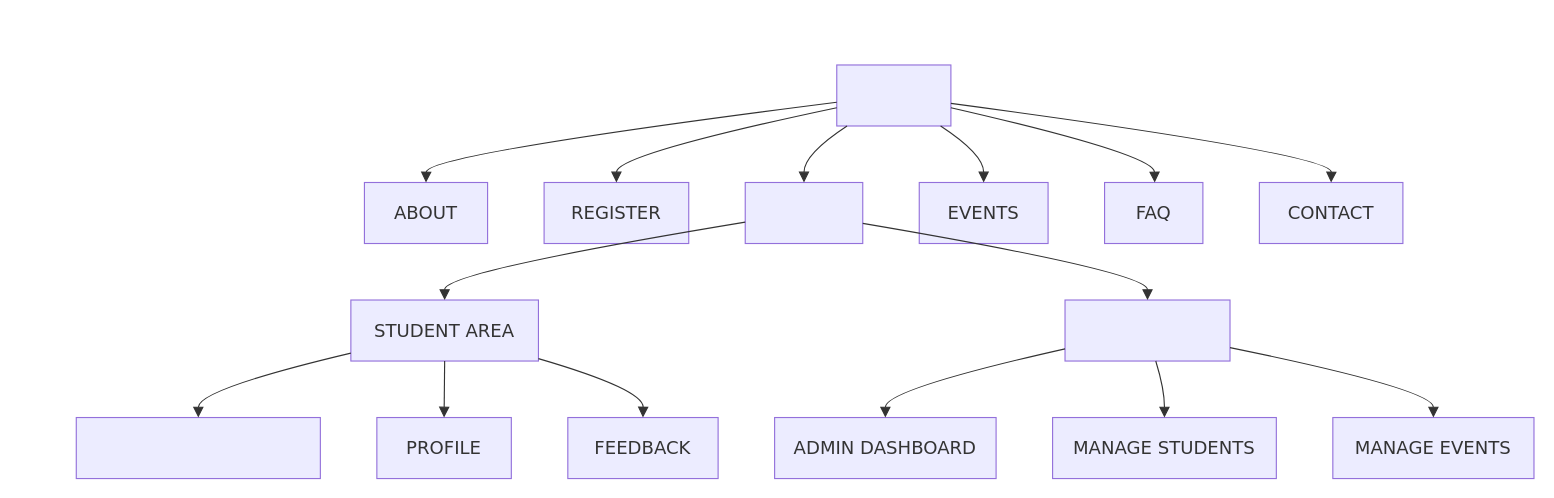
The diagram is 1554 pixels wide and 498 high, and some of its shapes have lost their labels. The centre of each missing label's shape, as x and y in pixels:
"ADMIN AREA" belongs at [1147,330].
"HOME" belongs at [893,95].
"LOGIN" belongs at [803,212].
"STUDENT DASHBOARD" belongs at [197,447].
